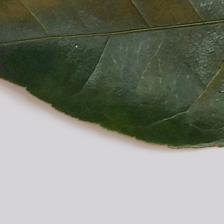healthy: (8, 8, 223, 86)
